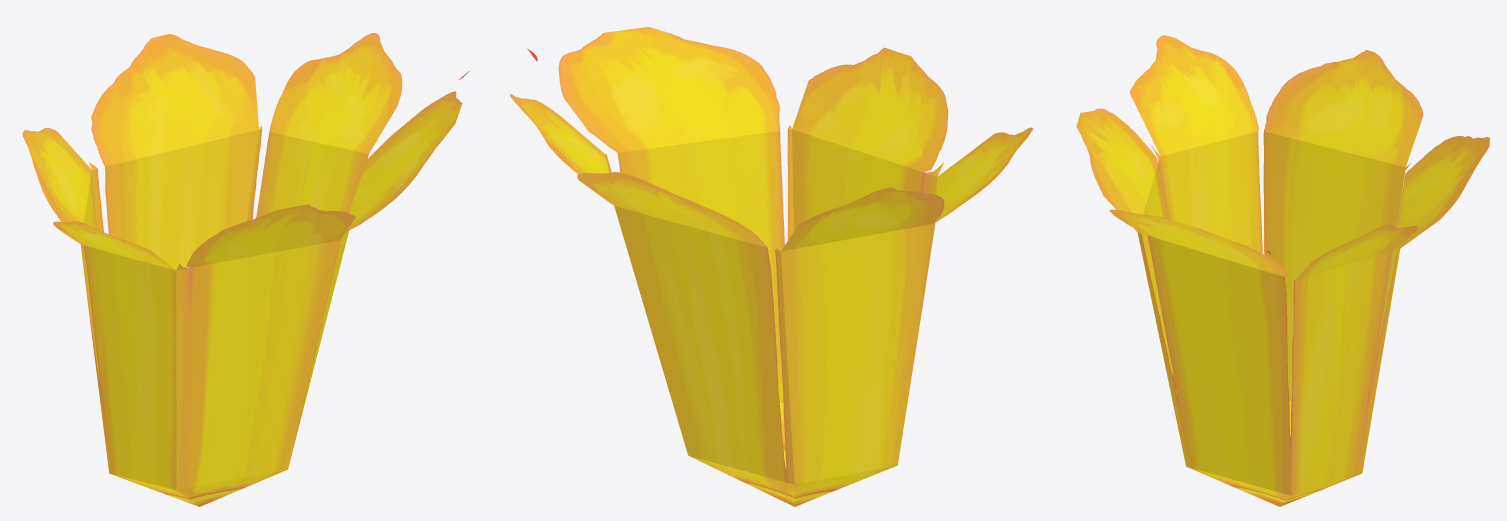
The model's file is Petal_4.glb.
The picture shows the model from 3 angles, left to right: view 1: azimuth 30°, elevation 25°; view 2: azimuth 150°, elevation 25°; view 3: azimuth 270°, elevation 25°; orthographic projection. The views are drawn at different scales.
Bounding box in the file's own units: 0.3291 × 0.2521 × 0.2444.
1 material, 1 textured.
